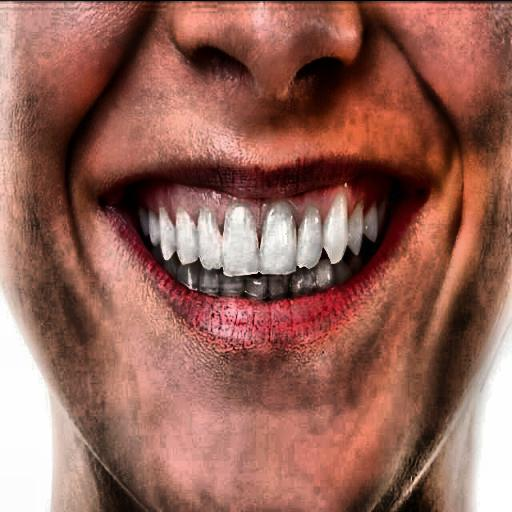Healthy: (93, 138, 442, 348)
